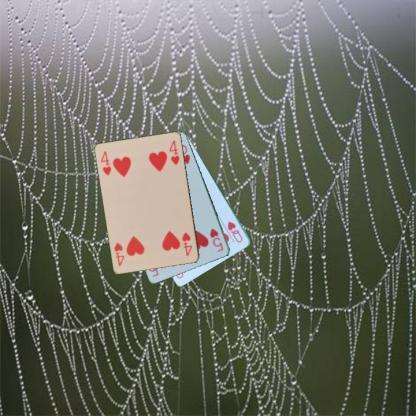4h: (98, 148, 113, 177), (180, 230, 194, 258)
5h: (207, 226, 225, 253)
Qh: (225, 219, 244, 244)
